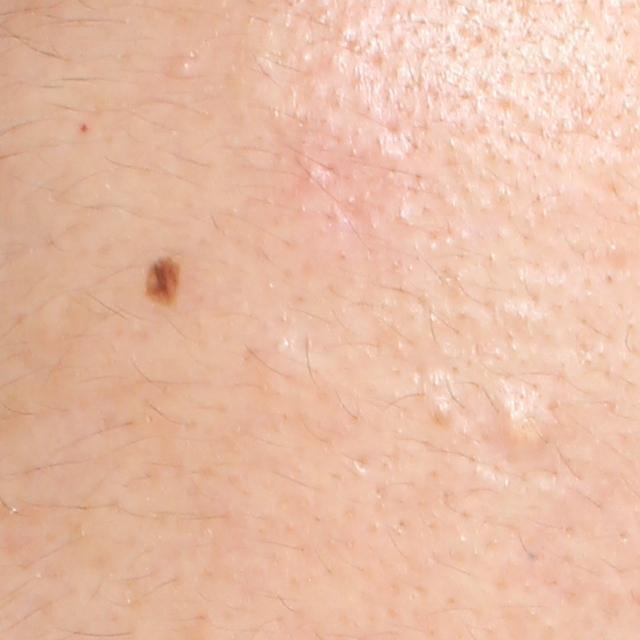comedo: (496, 392, 549, 458), (167, 51, 201, 78), (429, 400, 455, 430)
nevus: (141, 254, 184, 309)
